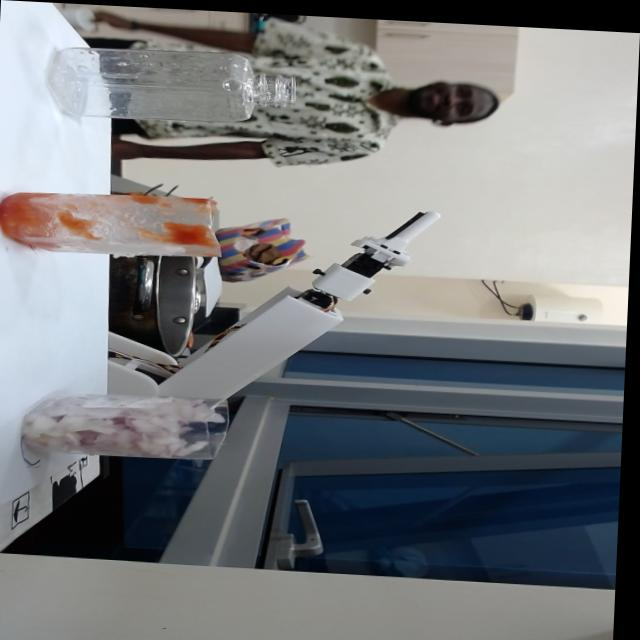blended_tomatoes_pepper: (5, 188, 211, 258)
cooking_pot: (112, 259, 209, 347)
sliced_onions: (24, 391, 228, 463)
